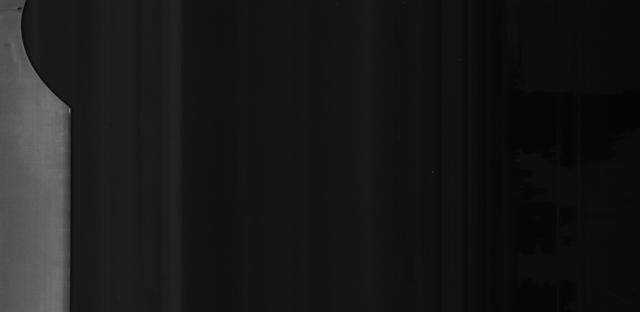crescent_gap: (14, 1, 92, 122)
